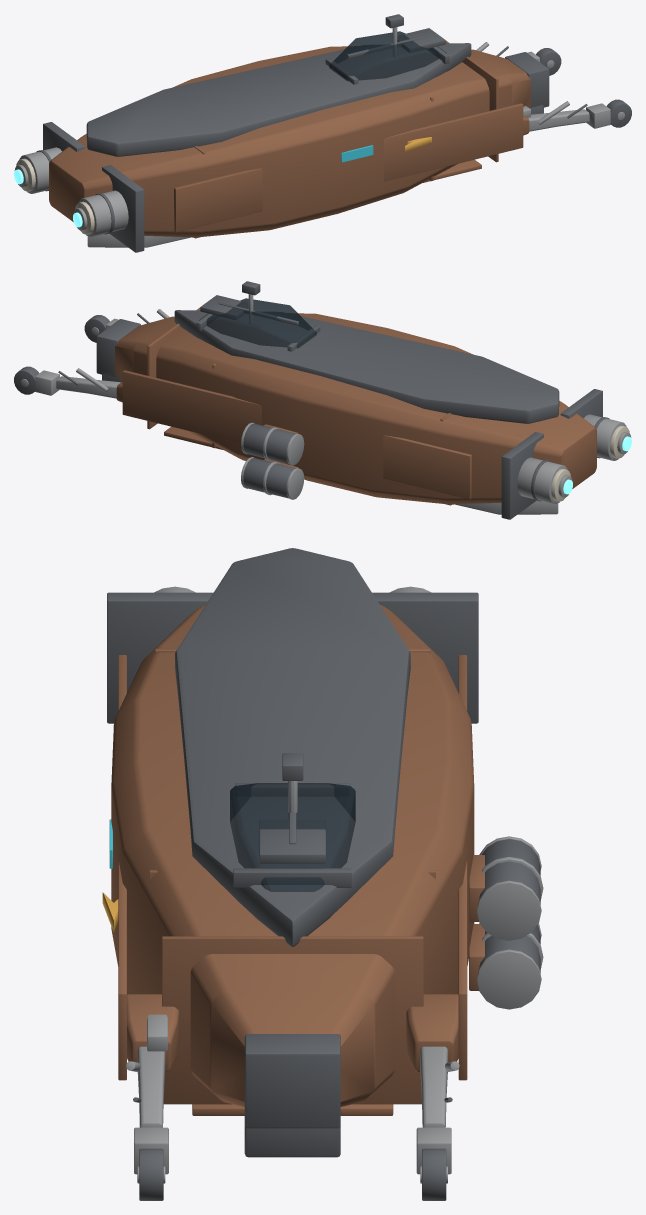
File: pelican_production_v1_lod2.glb
3 views of the same model, one above another, from view 1: azimuth 30°, elevation 25°; view 2: azimuth 150°, elevation 25°; view 3: azimuth 270°, elevation 25° (orthographic). The views are drawn at different scales.
Visible parts, largest first — view 1: LOD2_Hull, LOD2_Armor, LOD2_Mechanical, LOD2_Canopy, LOD2_Ceramic, LOD2_Accent; view 2: LOD2_Hull, LOD2_Armor, LOD2_Mechanical, LOD2_Canopy, LOD2_Ceramic; view 3: LOD2_Armor, LOD2_Hull, LOD2_Mechanical, LOD2_Canopy.
Boxes of the visible parts, box(x1,y1,x2,y2) form: LOD2_Hull: box(49, 40, 530, 238); LOD2_Armor: box(36, 14, 631, 252); LOD2_Mechanical: box(14, 27, 624, 247); LOD2_Canopy: box(329, 31, 446, 81); LOD2_Ceramic: box(16, 158, 94, 234); LOD2_Accent: box(341, 145, 373, 162); LOD2_Hull: box(115, 307, 596, 505); LOD2_Armor: box(14, 281, 609, 519); LOD2_Mechanical: box(21, 294, 631, 514); LOD2_Canopy: box(199, 298, 316, 348); LOD2_Ceramic: box(551, 425, 629, 501); LOD2_Armor: box(107, 548, 540, 1200); LOD2_Hull: box(111, 604, 484, 1115); LOD2_Mechanical: box(126, 586, 543, 1183); LOD2_Canopy: box(230, 783, 355, 891).
Size of what is drawn, in the model's own units: 14.47 by 3.94 by 5.05.
